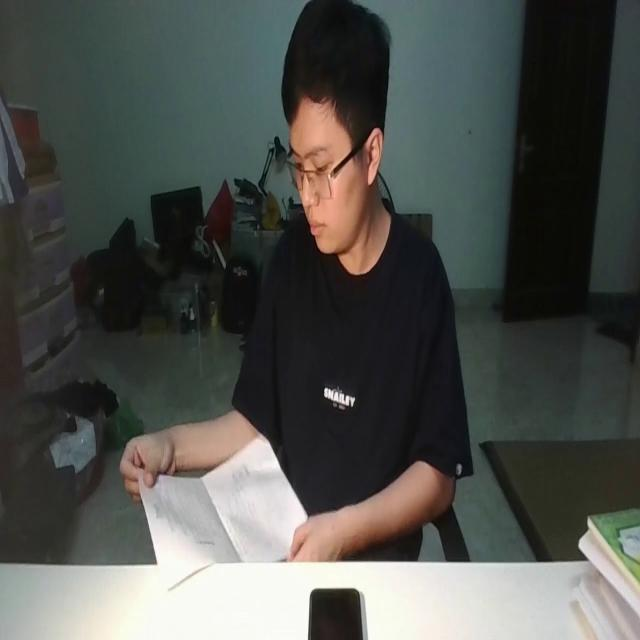book: (138, 438, 312, 591)
phone: (307, 584, 365, 640)
student: (117, 0, 475, 562)
